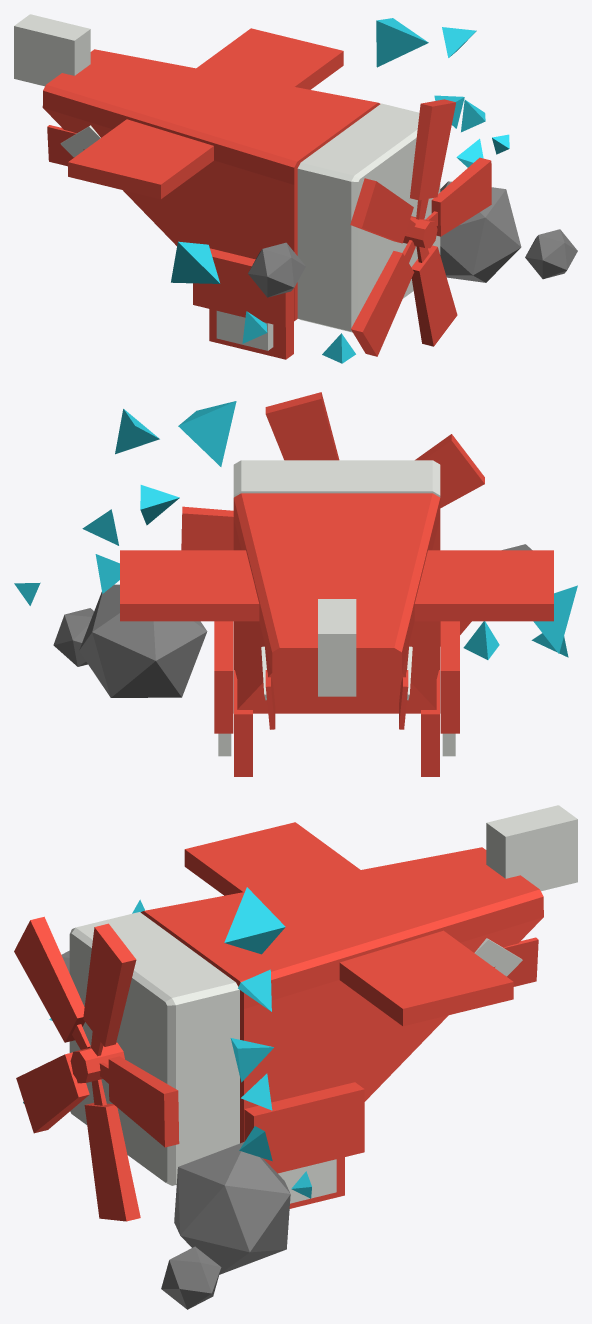
File: airplane.glb
3 views of the same model, one above another, from view 1: azimuth 30°, elevation 25°; view 2: azimuth 150°, elevation 25°; view 3: azimuth 270°, elevation 25° (orthographic). The views are drawn at different scales.
Visible parts, largest first — view 1: Plane.006; view 2: Plane.006; view 3: Plane.006.
Part boxes in pixels (left/top/right/bottom): Plane.006: left=14, top=14, right=577, bottom=363; Plane.006: left=14, top=392, right=577, bottom=776; Plane.006: left=14, top=805, right=577, bottom=1309.
Size of the model in its own units: 6.44 by 3.73 by 5.71.
